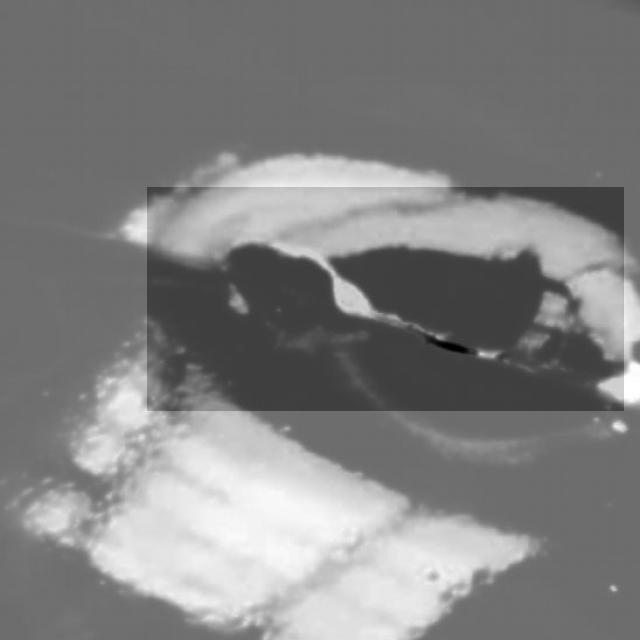crack: (148, 188, 625, 412)
